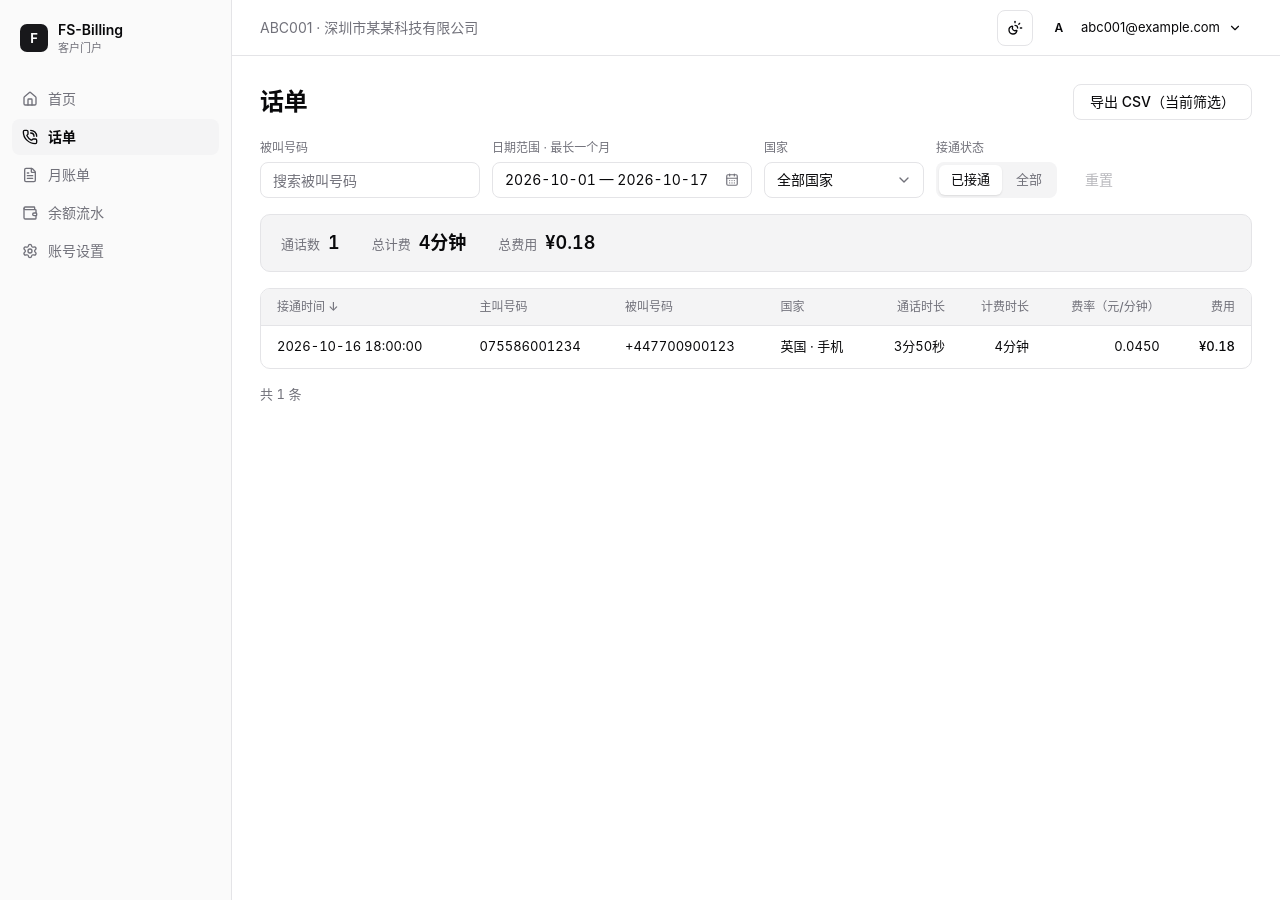
portal CDR list › opens the detail with every field and the hangup cause in Chinese
Expected: the table is shown, x1=261 y1=289 x2=1251 y2=368
Click the button named "查看话单详情" at (350, 347), box x1=277 y1=337 x2=422 y2=356
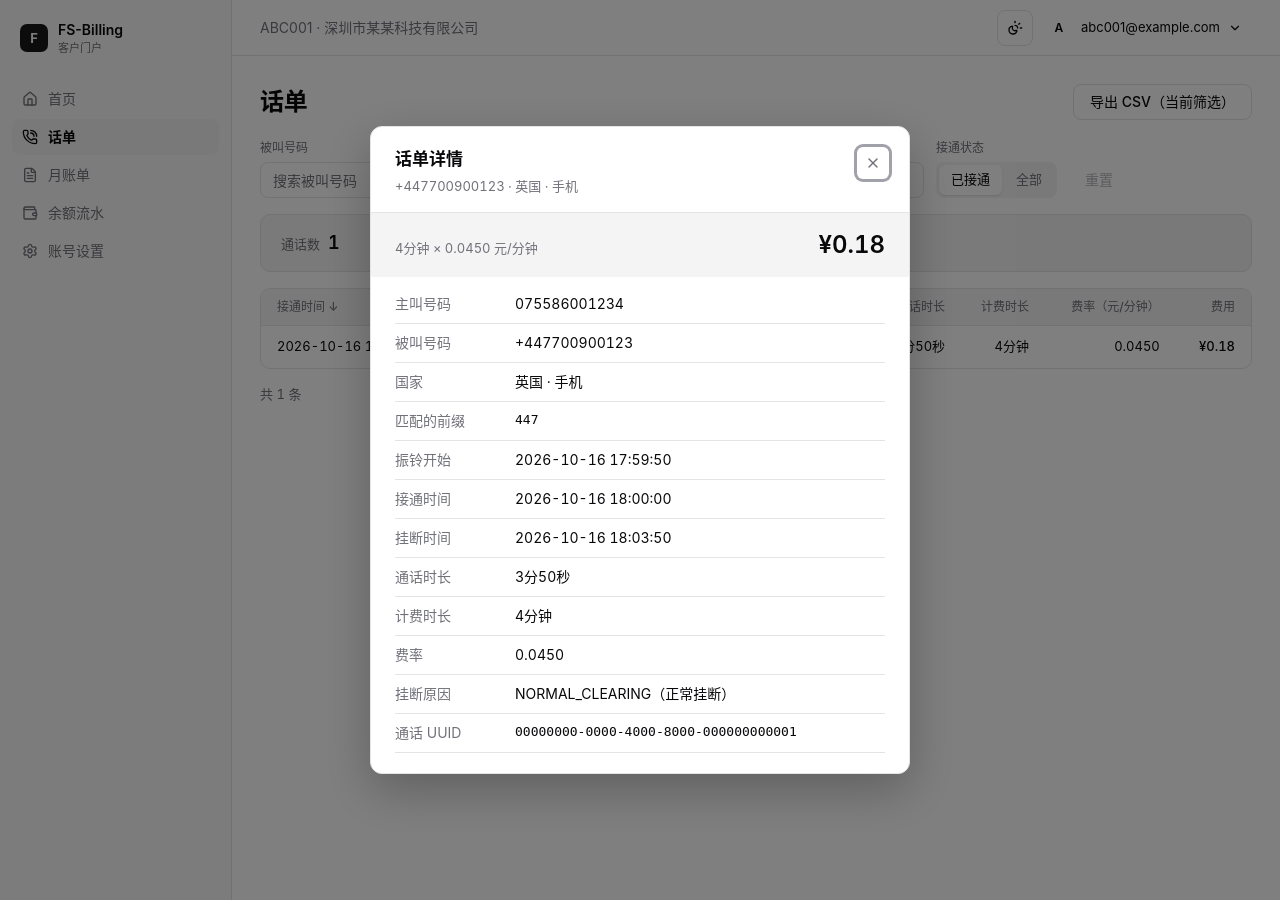
Now the dialog shows "话单详情", box x1=395 y1=149 x2=463 y2=169
Now the dialog shows "+447700900123", box x1=395 y1=178 x2=505 y2=194
Now the dialog shows "英国 · 手机", box x1=515 y1=178 x2=578 y2=194
